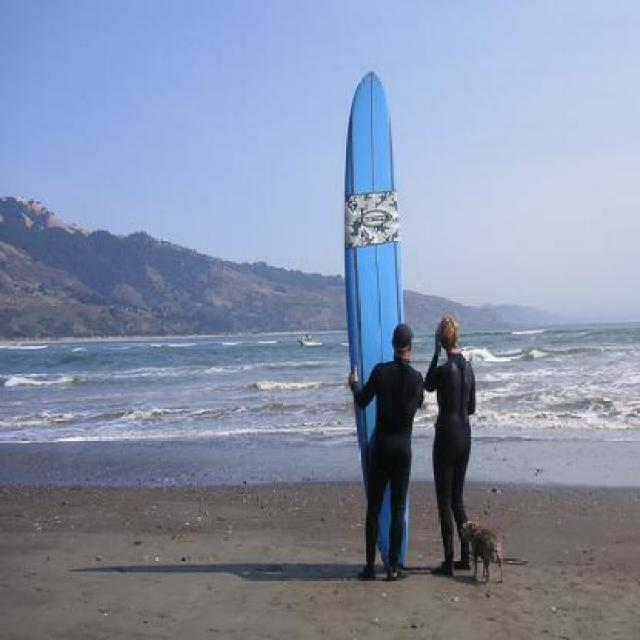ship: (296, 331, 321, 346)
